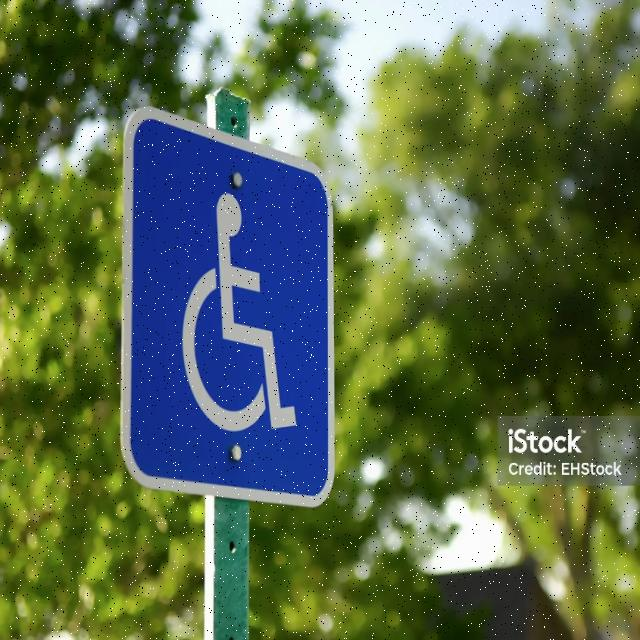symbol_of_access: (120, 102, 336, 508)
